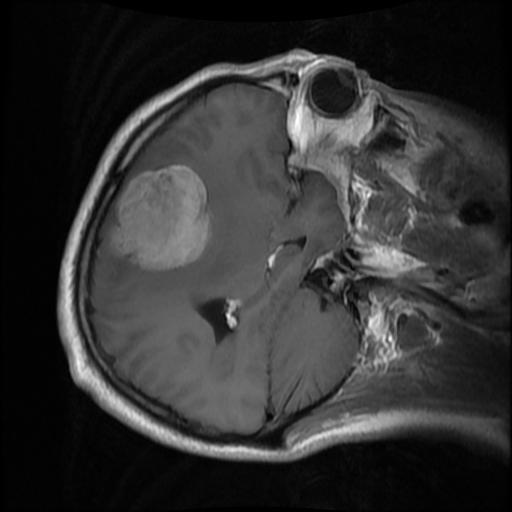meningioma: (110, 164, 211, 274)
